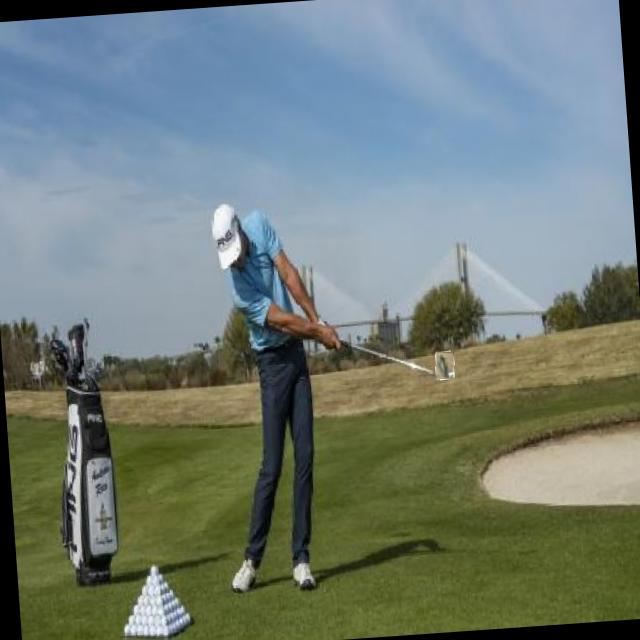club head: (434, 351, 454, 380)
